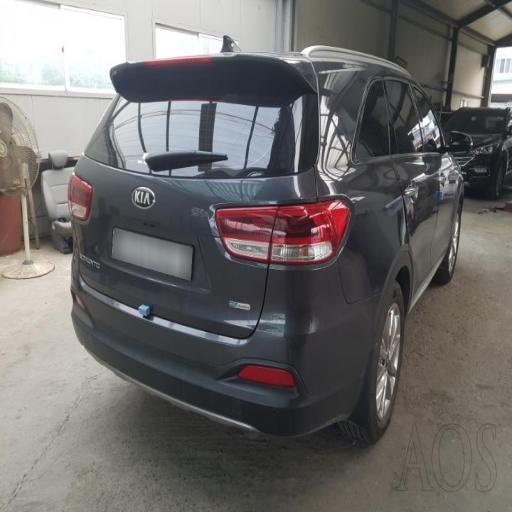scratch: (200, 195, 302, 296)
